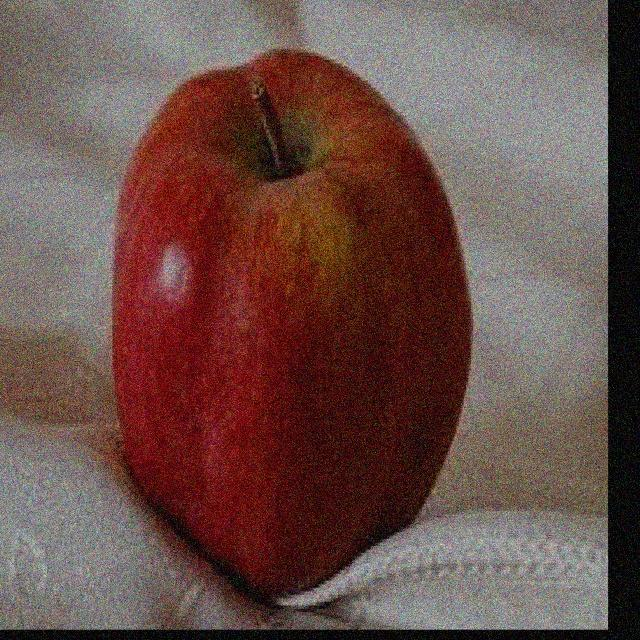red apple: (100, 41, 489, 597)
